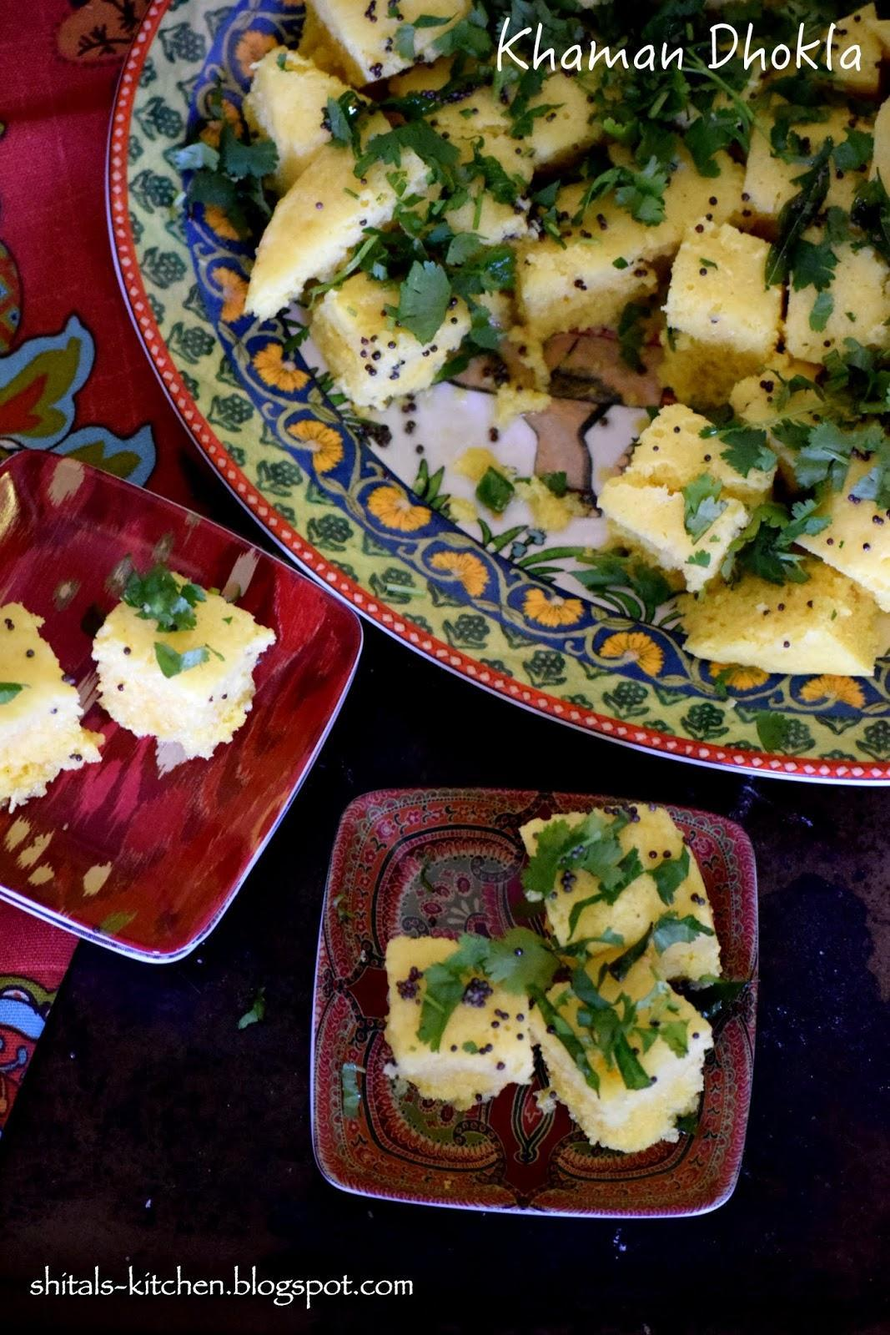dhokla: (246, 19, 890, 666), (388, 824, 713, 1147), (8, 557, 246, 808)
